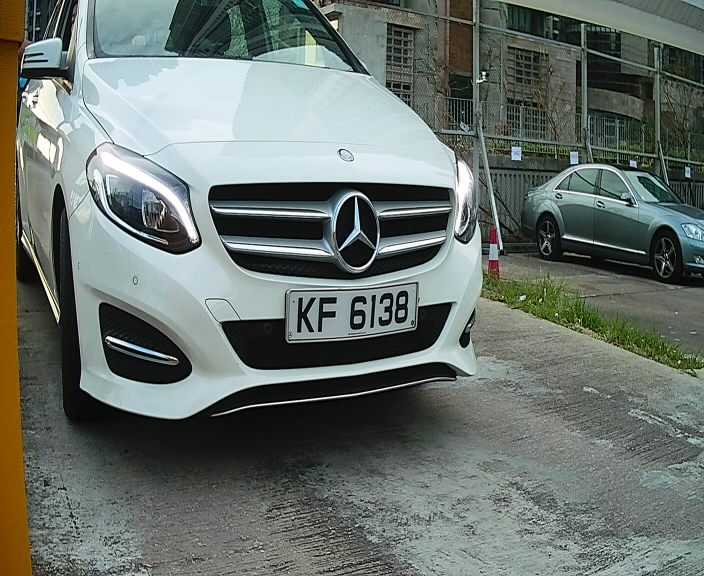Car: (2, 2, 525, 436)
License Plate: (263, 273, 434, 350)
